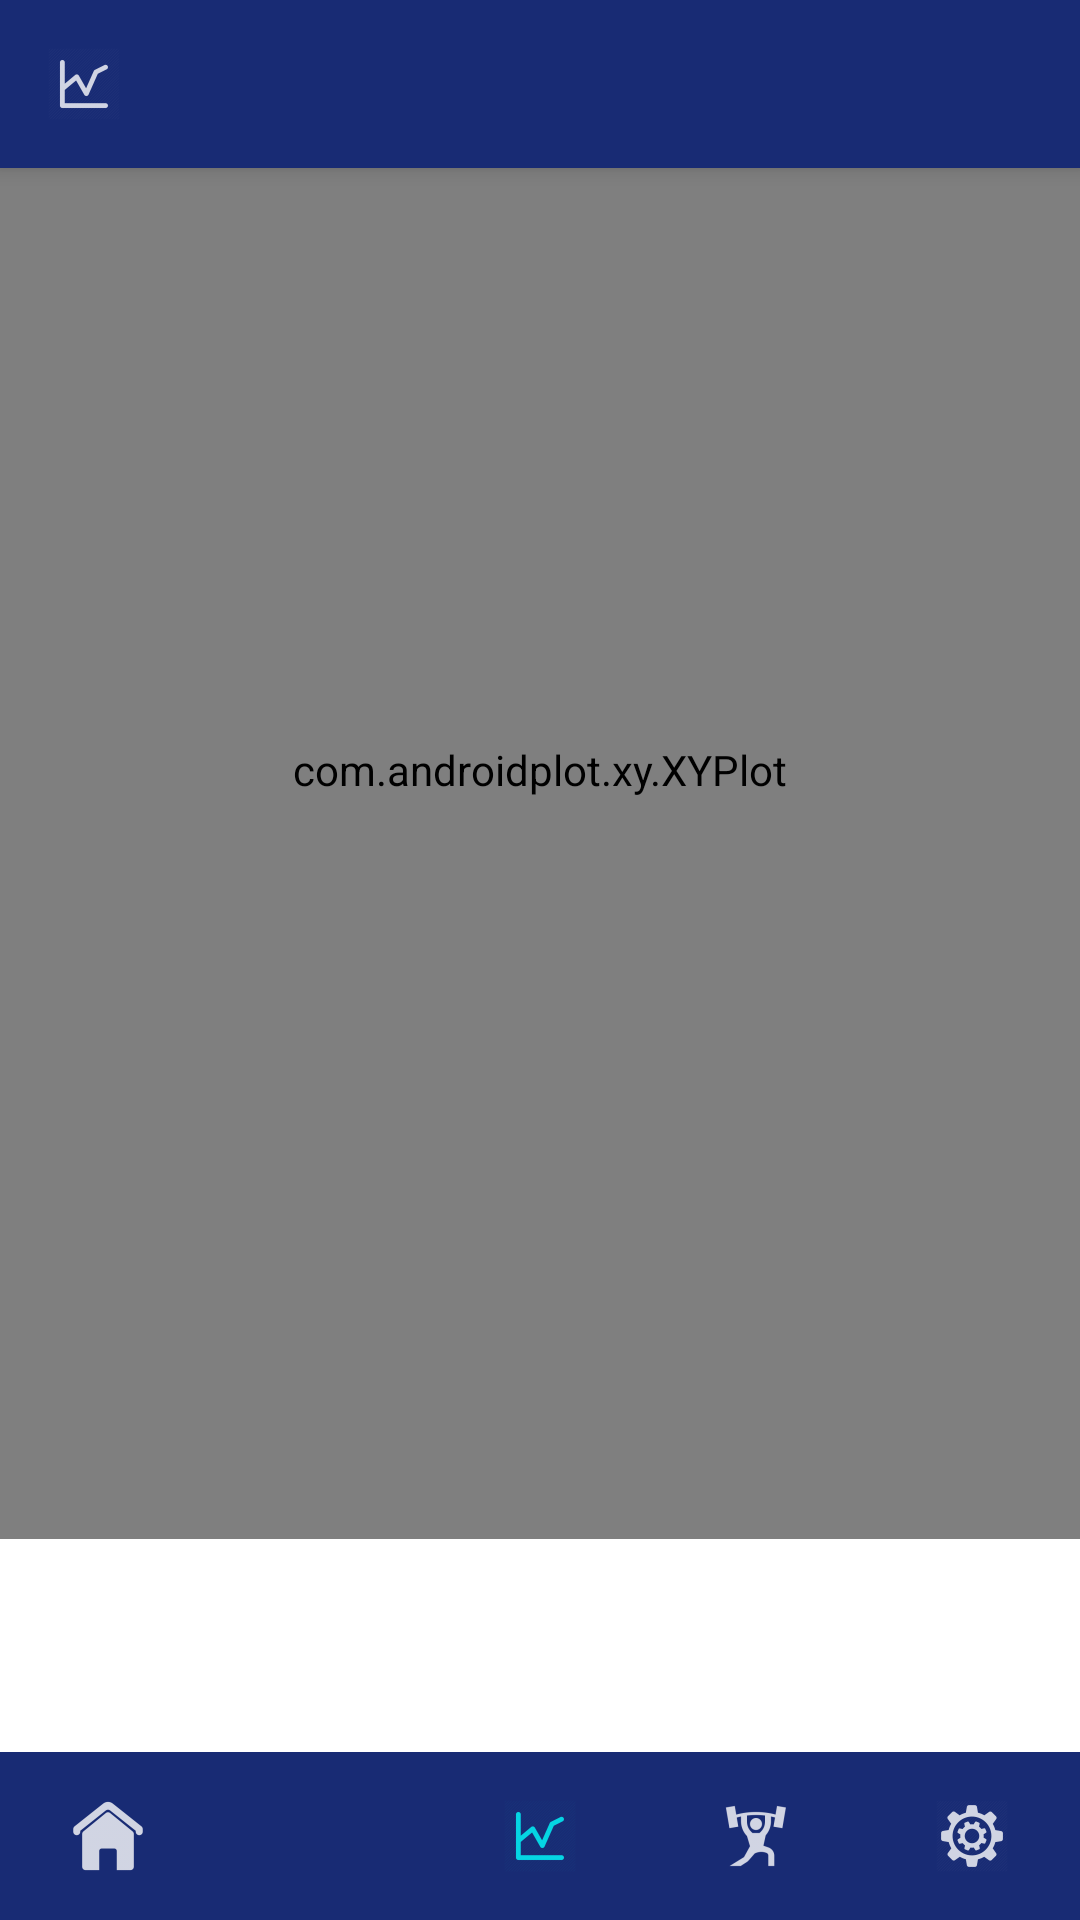

Point at icon controls on the screen. Image size 1080px×1920px, points as (x=x, y=y).
graph: (x=540, y=1836)
home: (x=108, y=1836)
settings: (x=972, y=1836)
weight: (x=756, y=1836)
